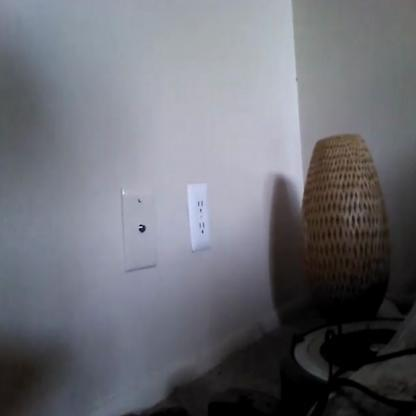OUTLET: (187, 184, 211, 250)
